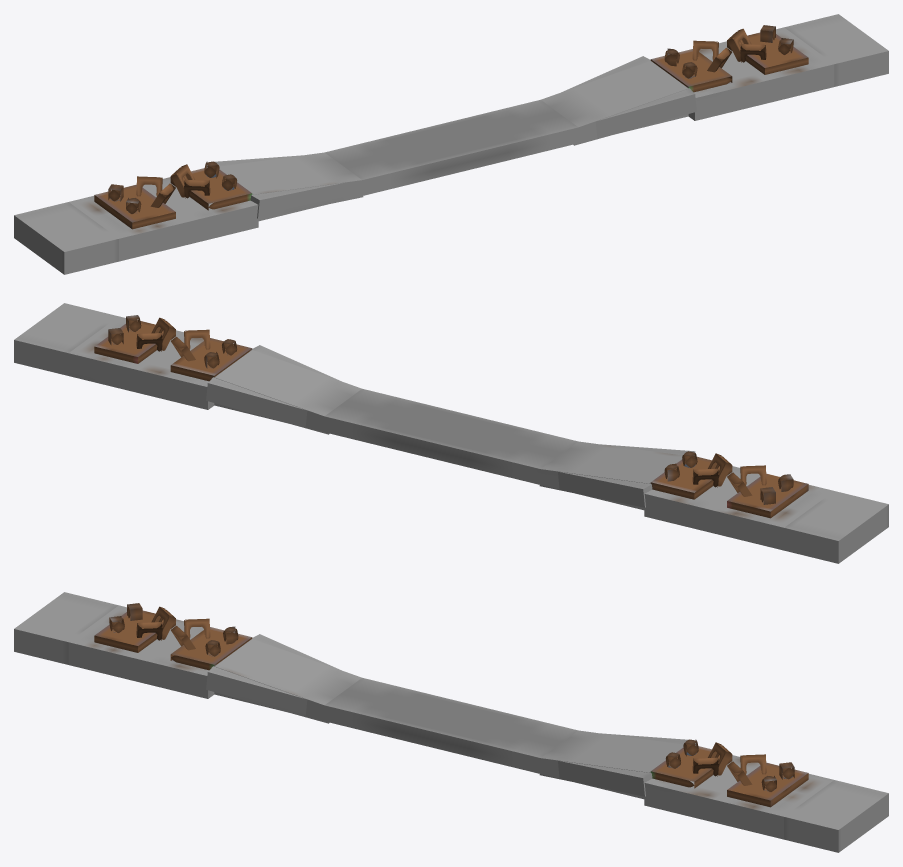
The model's file is concretesleepers.obj.
3 views of the same model, one above another, from view 1: azimuth 30°, elevation 25°; view 2: azimuth 150°, elevation 25°; view 3: azimuth 330°, elevation 25° (orthographic).
Parts seen in each view (by area): view 1: cube; view 2: cube; view 3: cube.
Boxes of the visible parts, x1,y1,x2,y2 form: cube: (14,14,888,274); cube: (14,303,888,563); cube: (14,592,888,852).
Size of the model in its own units: 2.36 by 0.1319 by 0.2576.
2 materials, 2 textured.
